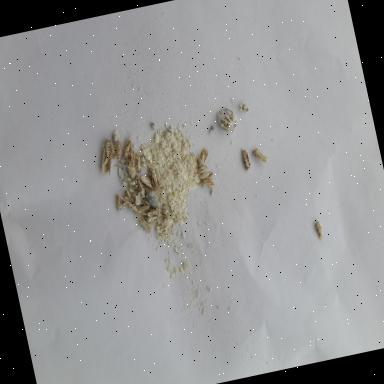pbw: (192, 147, 210, 168), (125, 152, 138, 180), (240, 147, 254, 171), (150, 170, 162, 196), (136, 172, 148, 198), (110, 140, 125, 160), (120, 138, 135, 158), (252, 146, 268, 164), (132, 152, 145, 174), (138, 214, 152, 234), (315, 220, 326, 245), (140, 173, 155, 191), (120, 189, 134, 208), (124, 146, 137, 166), (200, 176, 216, 192), (138, 208, 160, 219), (131, 204, 149, 216), (114, 192, 124, 212), (192, 164, 208, 175), (200, 170, 214, 180)
